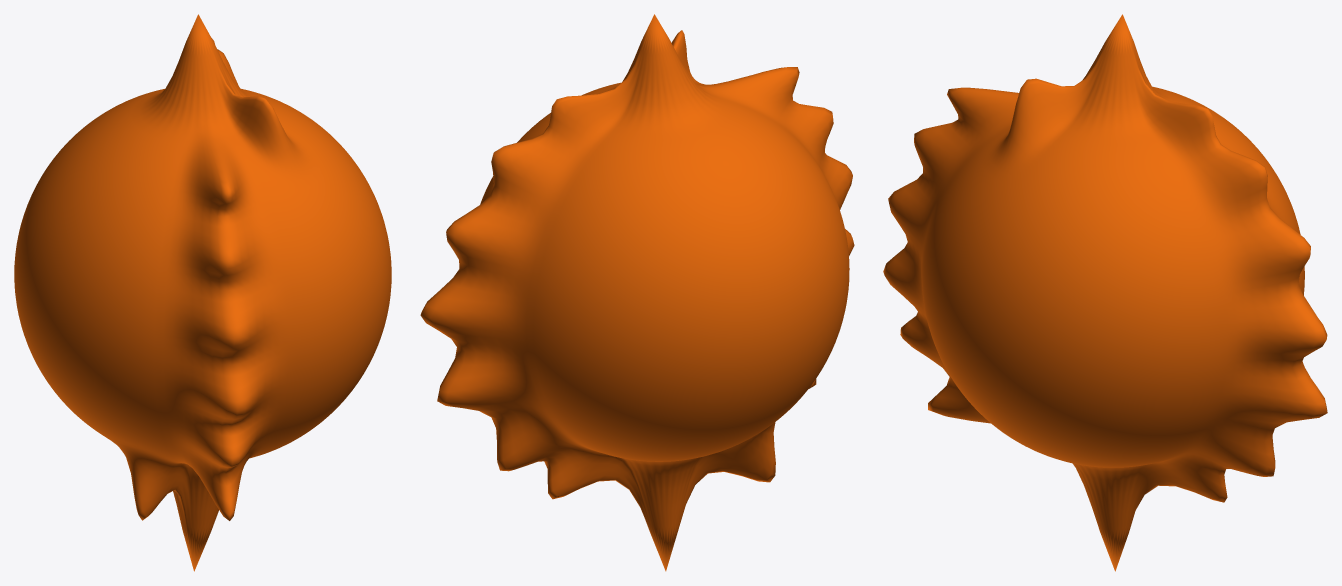
Rendered from star.fbx.
The picture shows the model from 3 angles, left to right: view 1: azimuth 30°, elevation 25°; view 2: azimuth 150°, elevation 25°; view 3: azimuth 270°, elevation 25°; orthographic projection.
Parts seen in each view (by area): view 1: Sphere; view 2: Sphere; view 3: Sphere.
Part boxes in pixels (x1=…): Sphere: x1=14, y1=14, x2=391, y2=571; Sphere: x1=420, y1=14, x2=854, y2=571; Sphere: x1=883, y1=14, x2=1327, y2=571.
Size of the model in its own units: 197 by 319 by 229.
